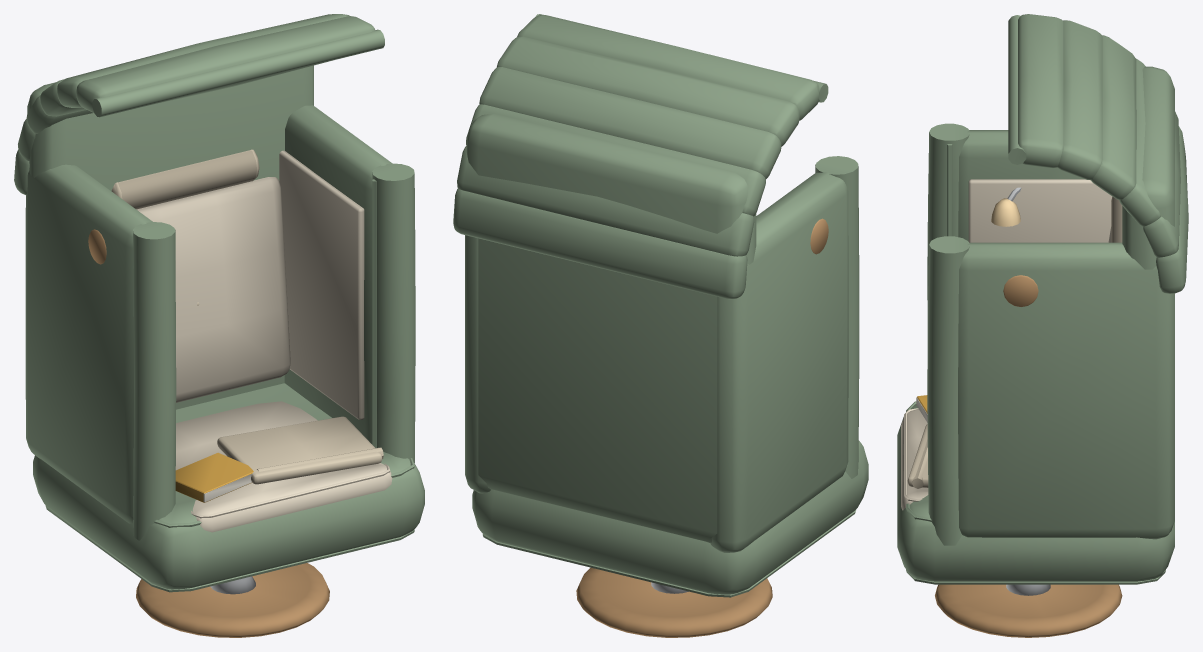
File: quietPod.glb
3 views of the same model, side by side, from view 1: azimuth 30°, elevation 25°; view 2: azimuth 150°, elevation 25°; view 3: azimuth 270°, elevation 25° (orthographic). The views are drawn at different scales.
Parts seen in each view (by area): view 1: body, hood; view 2: body, hood; view 3: body, hood.
Boxes of the visible parts, x1,y1,x2,y2 form: body: (25,65,424,637); hood: (14,14,384,195); body: (465,113,868,637); hood: (453,14,828,299); body: (897,66,1174,637); hood: (1008,14,1188,293).
Bounding box in the file's own units: 0.84 × 1.55 × 0.7769.
